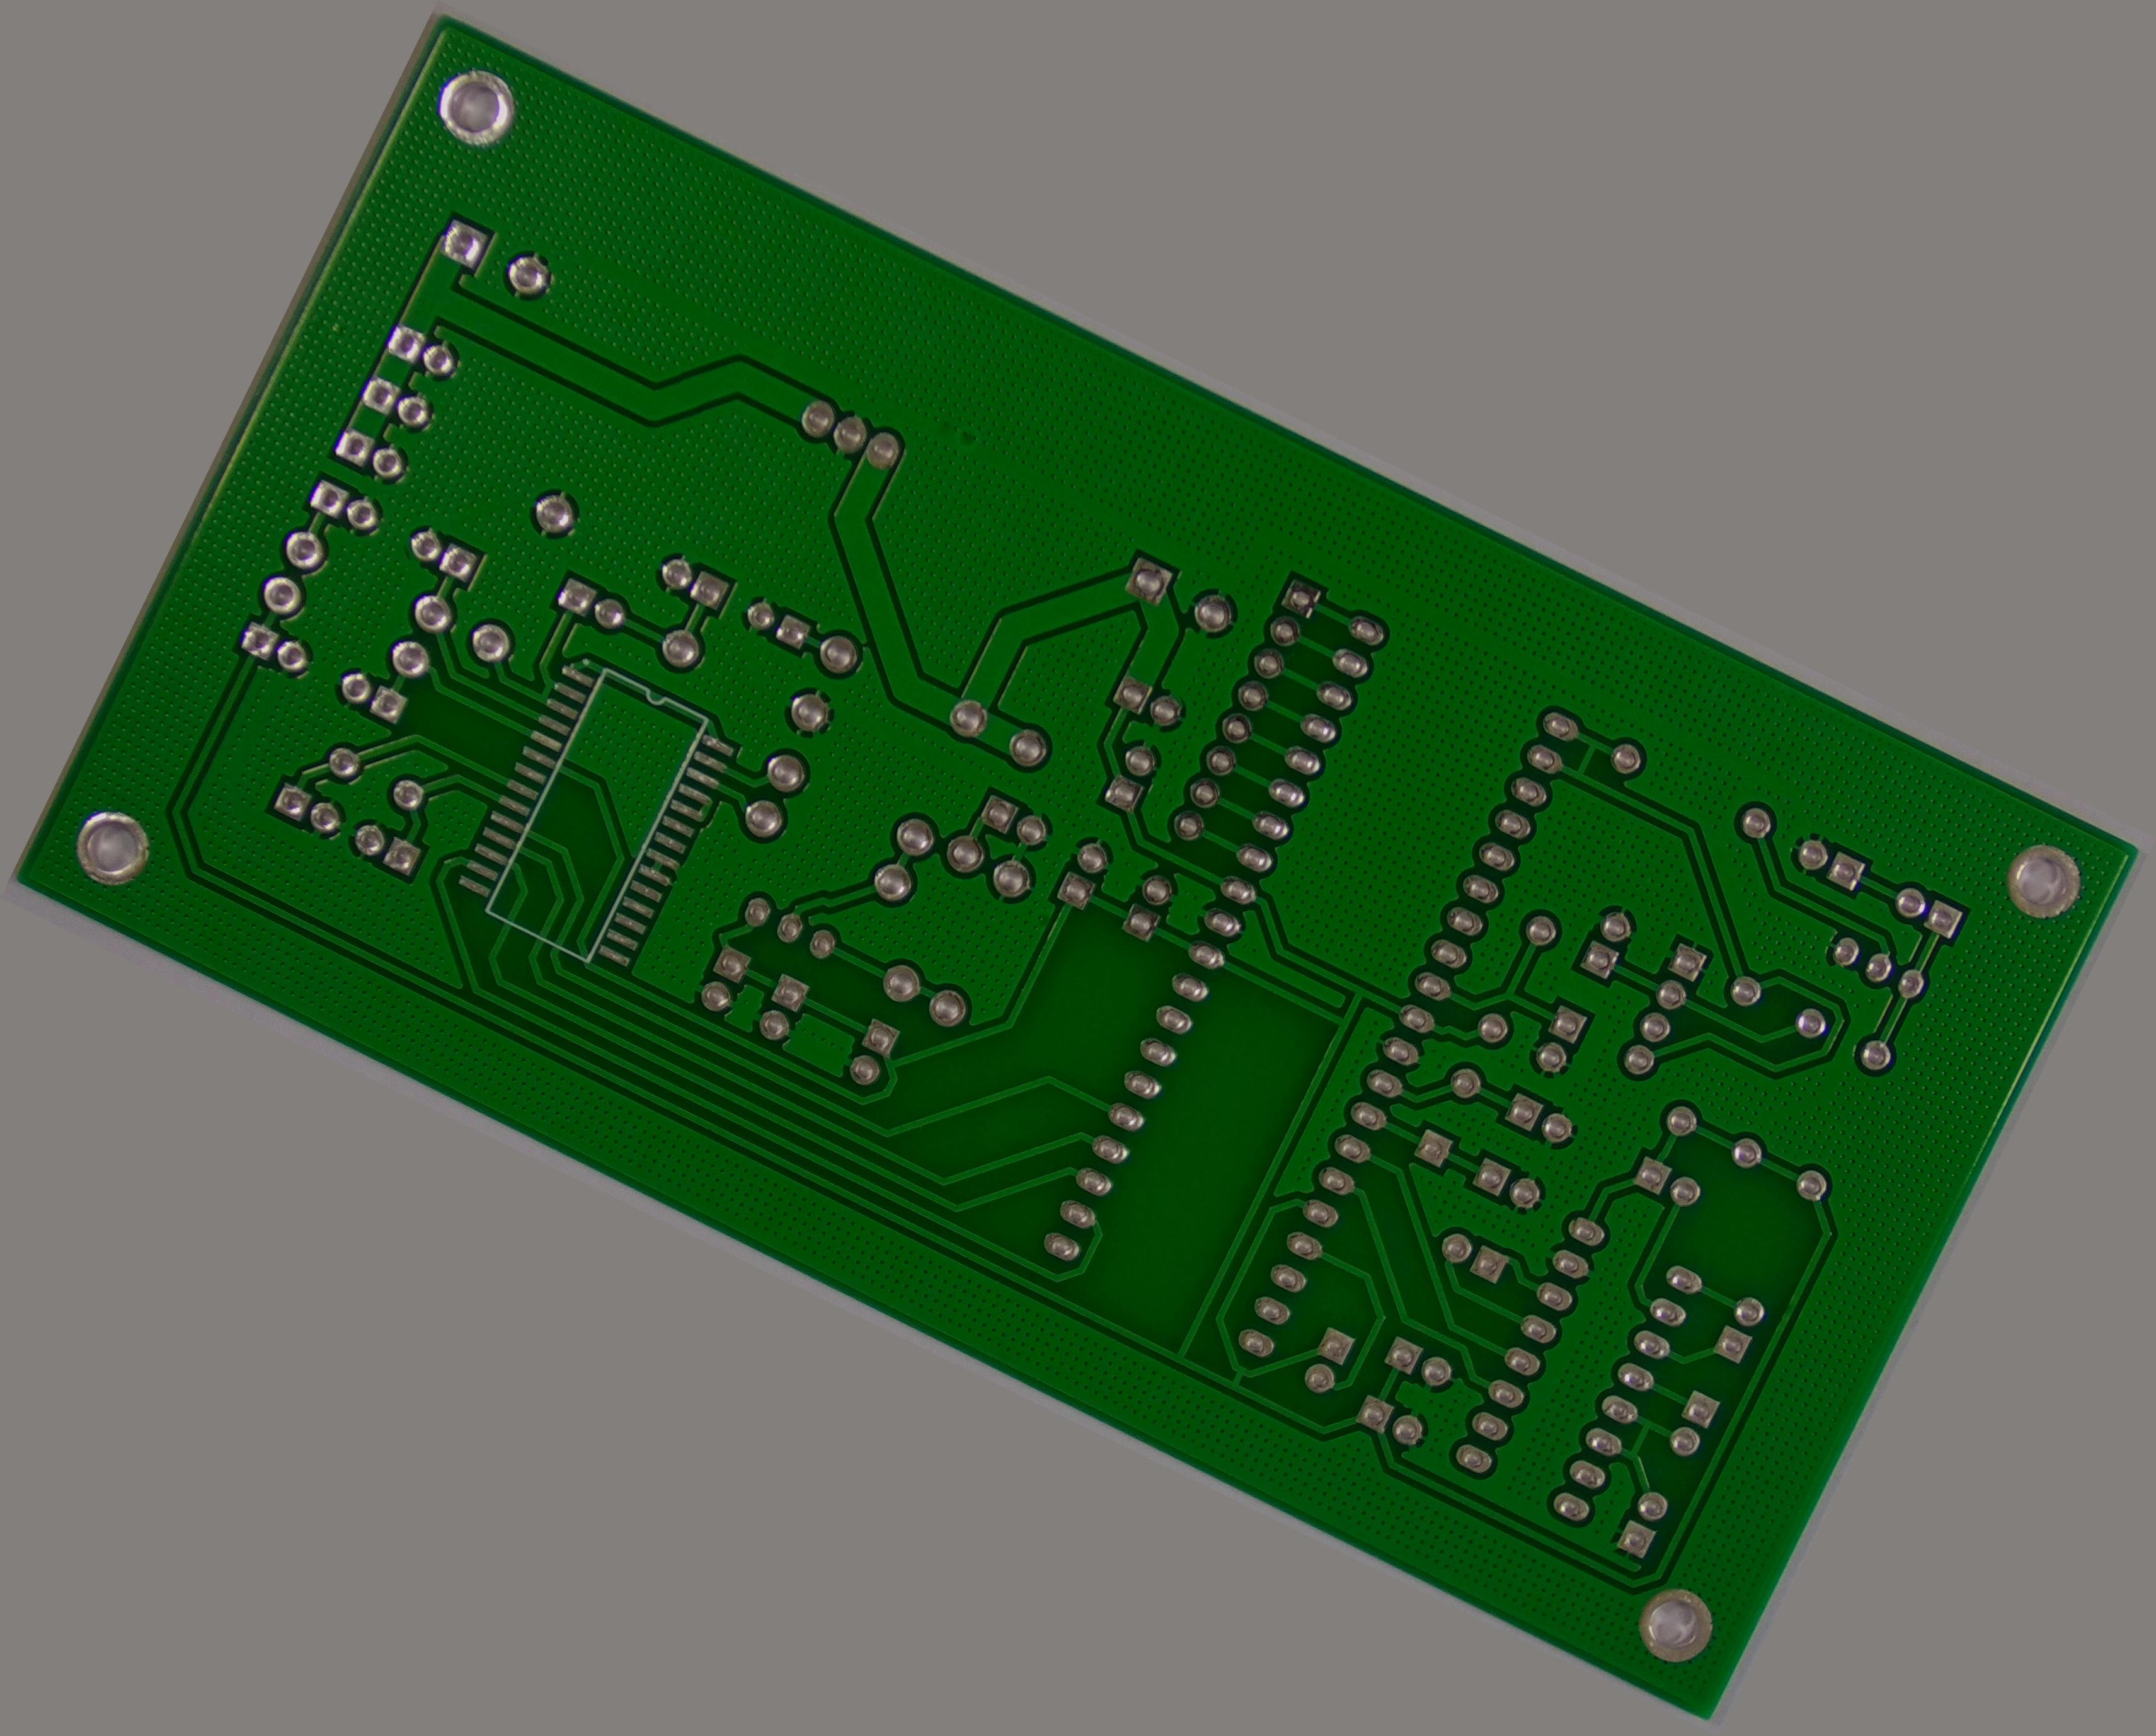short: (1603, 1398, 1683, 1484), (1206, 1346, 1268, 1407), (524, 664, 567, 709)
